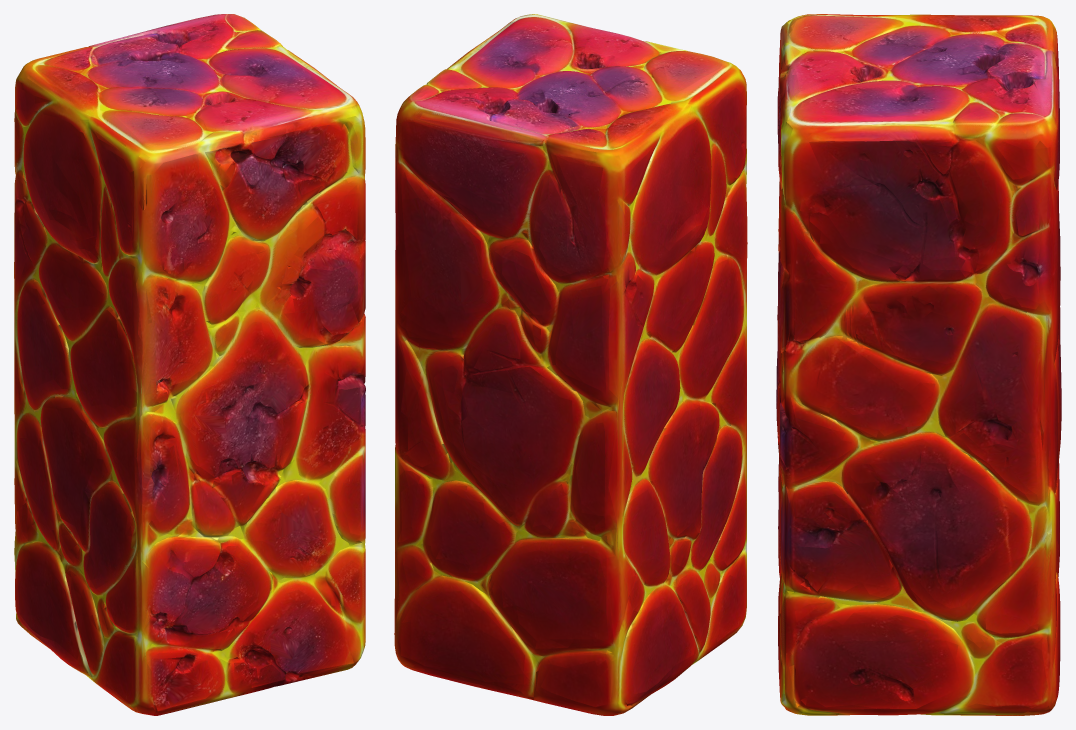
File: alev_tas_uzun_kup.glb
3 renders of one model, left to right at view 1: azimuth 30°, elevation 25°; view 2: azimuth 150°, elevation 25°; view 3: azimuth 270°, elevation 25°, orthographic. The views are drawn at different scales.
Visible parts, largest first — view 1: tripo_node_7f9552ac-a810-42a3-b753-8c2b2f7e3a0c; view 2: tripo_node_7f9552ac-a810-42a3-b753-8c2b2f7e3a0c; view 3: tripo_node_7f9552ac-a810-42a3-b753-8c2b2f7e3a0c.
Boxes of the visible parts, x1,y1,x2,y2 form: tripo_node_7f9552ac-a810-42a3-b753-8c2b2f7e3a0c: (14, 14, 365, 715); tripo_node_7f9552ac-a810-42a3-b753-8c2b2f7e3a0c: (394, 14, 747, 715); tripo_node_7f9552ac-a810-42a3-b753-8c2b2f7e3a0c: (776, 14, 1061, 715).
Bounding box in the file's own units: 0.4288 × 0.979 × 0.4212.
Materials: 1 (1 with a texture image).
